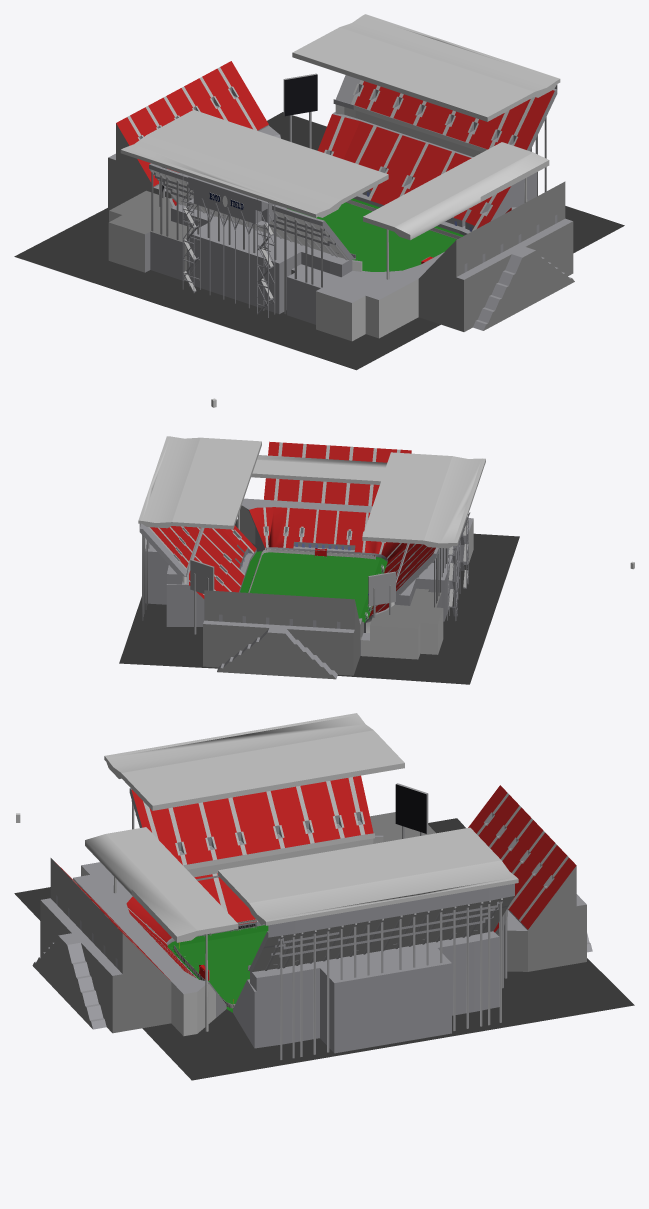
The picture shows the model from 3 angles, top to bottom: view 1: azimuth 30°, elevation 25°; view 2: azimuth 150°, elevation 25°; view 3: azimuth 270°, elevation 25°; orthographic projection. The views are drawn at different scales.
Visible parts, largest first — view 1: _G-Object.117_(Loose_Mesh); view 2: _G-Object.117_(Loose_Mesh); view 3: _G-Object.117_(Loose_Mesh).
Part boxes in pixels (bbox=[...]): _G-Object.117_(Loose_Mesh): bbox=[14, 14, 624, 407]; _G-Object.117_(Loose_Mesh): bbox=[119, 436, 634, 684]; _G-Object.117_(Loose_Mesh): bbox=[14, 713, 634, 1080].
Bounding box in the file's own units: 347 × 104 × 287.
